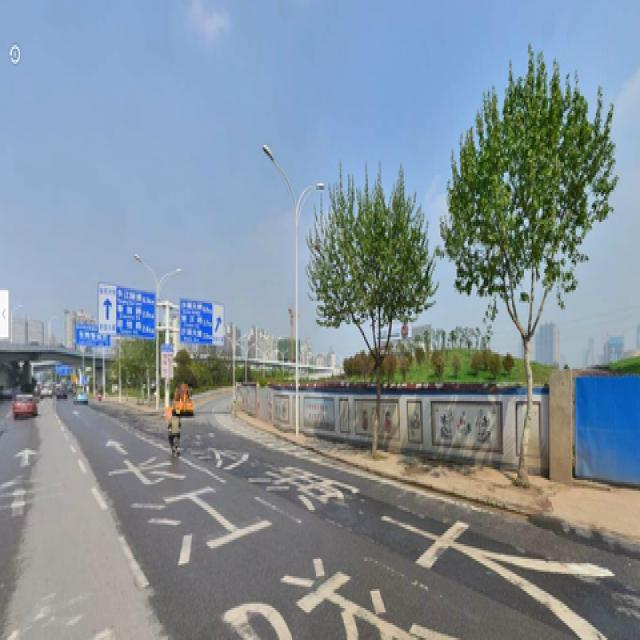meta: (452, 68, 612, 484), (312, 186, 437, 472)
